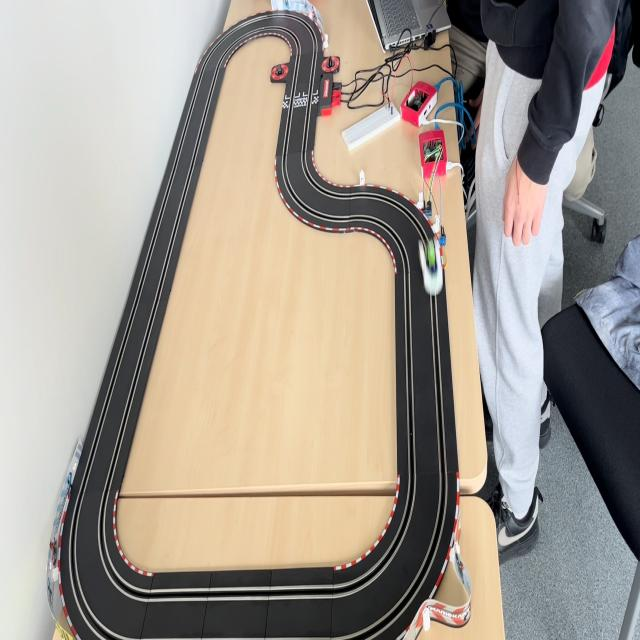yoshi: (416, 237, 441, 290)
